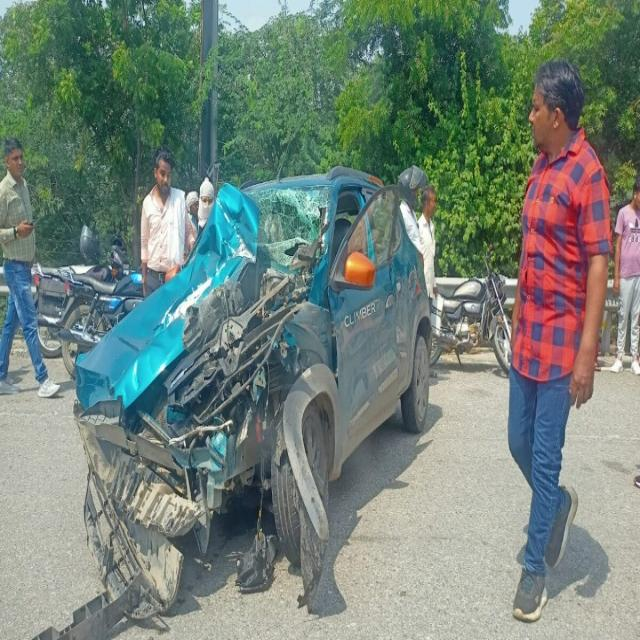accident: (75, 169, 431, 619)
motorcycle: (431, 251, 510, 372), (59, 271, 142, 377), (32, 264, 112, 358)
